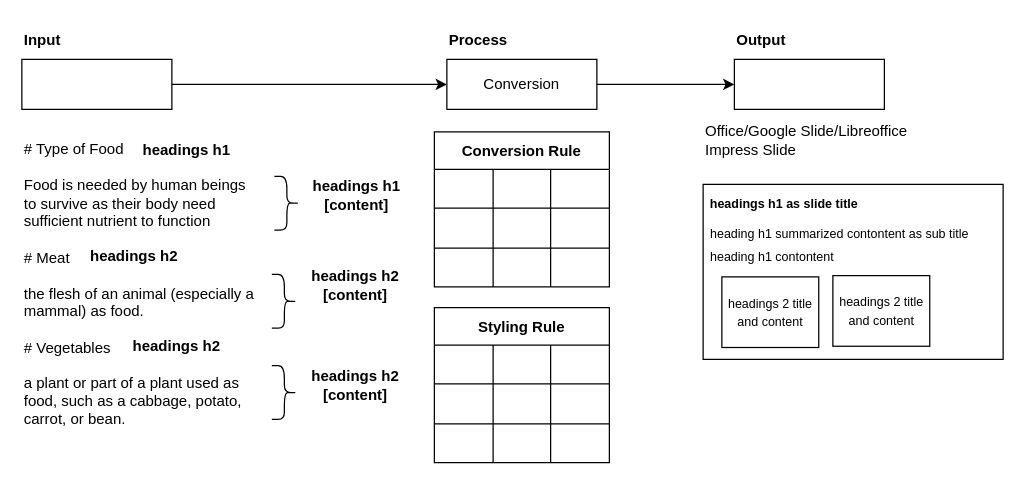
This 1025x484 diagram has some shape labels left out. The shapes that lost their labels are listed below. From the top down, each one's box as (x1, y1, x2, y2) in pixels, then its label:
(21, 58, 172, 109): Markdown File
(733, 58, 884, 109): Slides
